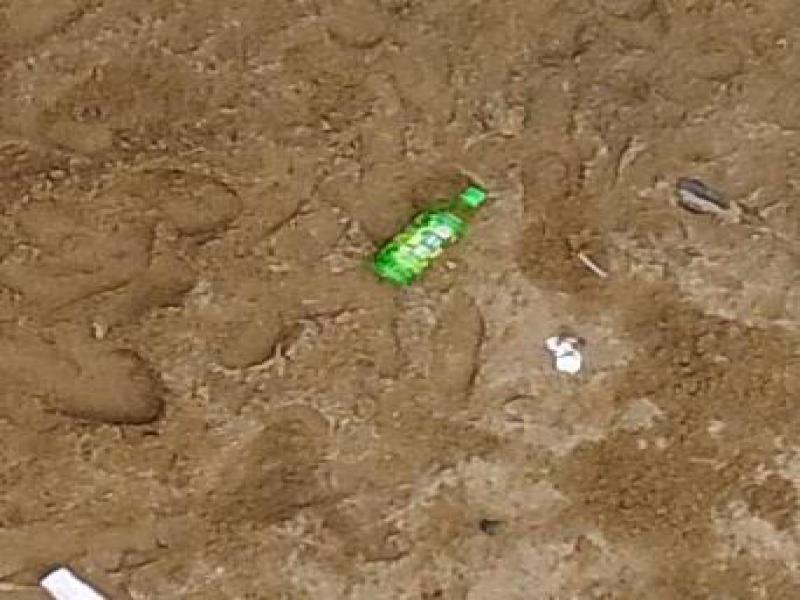bottle: (358, 161, 508, 292), (34, 557, 88, 598)
